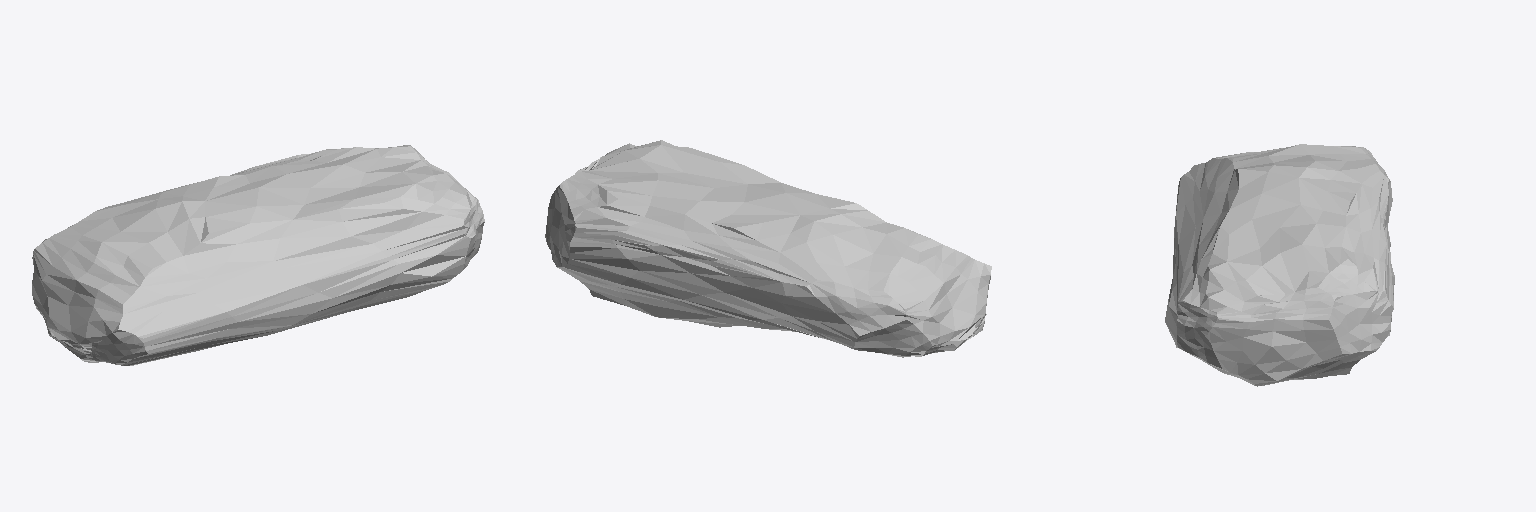
Rendered from Rock_04_Hite.OBJ.
3 views of the same model, side by side, from view 1: azimuth 30°, elevation 25°; view 2: azimuth 150°, elevation 25°; view 3: azimuth 270°, elevation 25° (orthographic).
Parts seen in each view (by area): view 1: Group2; view 2: Group2; view 3: Group2.
Part boxes in pixels (left/top/right/bottom): Group2: left=32, top=145, right=484, bottom=365; Group2: left=545, top=140, right=991, bottom=357; Group2: left=1165, top=144, right=1394, bottom=386.
Size of the model in its own units: 22.29 by 6.29 by 11.03.